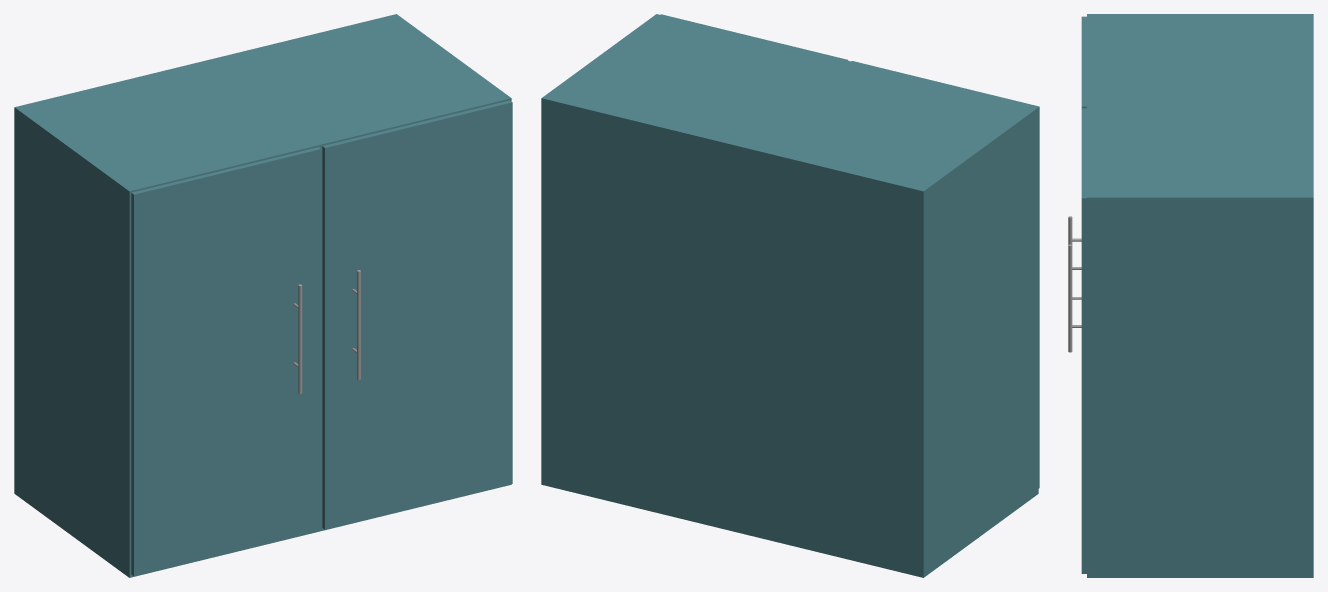
The model's file is cupboard.fbx.
3 views of the same model, side by side, from view 1: azimuth 30°, elevation 25°; view 2: azimuth 150°, elevation 25°; view 3: azimuth 270°, elevation 25° (orthographic).
Parts seen in each view (by area): view 1: overheadcupboard; view 2: overheadcupboard; view 3: overheadcupboard.
Boxes of the visible parts, box(x1,y1,x2,y2) form: overheadcupboard: box(14, 14, 512, 577); overheadcupboard: box(541, 14, 1039, 577); overheadcupboard: box(1068, 14, 1313, 577).
Size of the model in its own units: 100 by 56.46 by 96.65.
